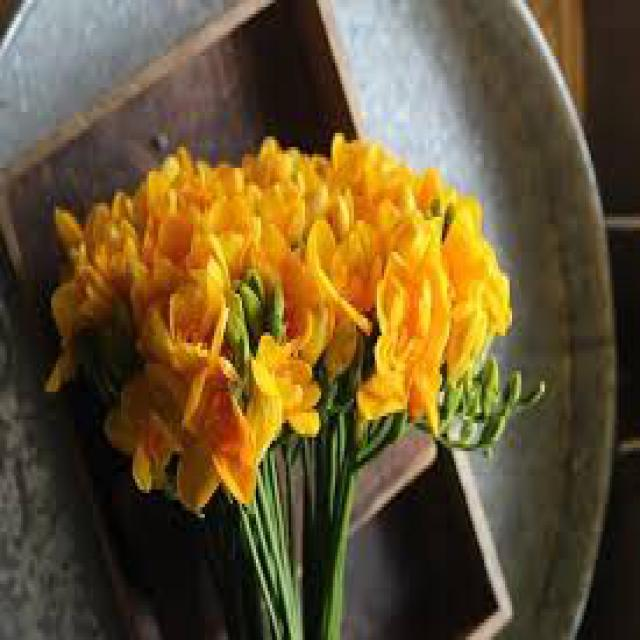freesia: (21, 189, 158, 356), (364, 225, 463, 441), (133, 219, 233, 432), (189, 180, 268, 266)
